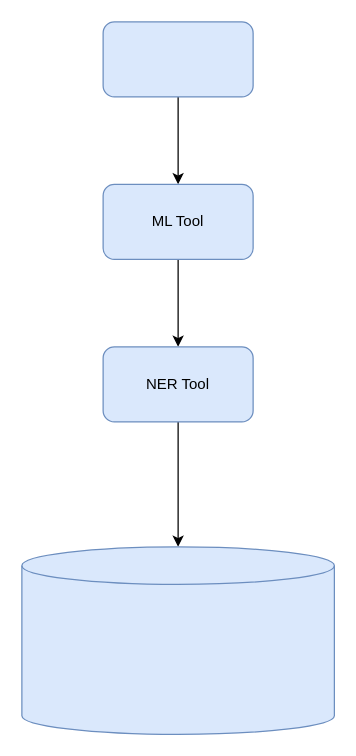
Some shapes in this 356 by 756 pixel diagram are drawn without their labels. The shapes that lost their labels are listed below. From the top down, each one's centre as x and y in pixels, then its label:
At point (177, 59): "LPS".
At point (177, 640): "The Database".
